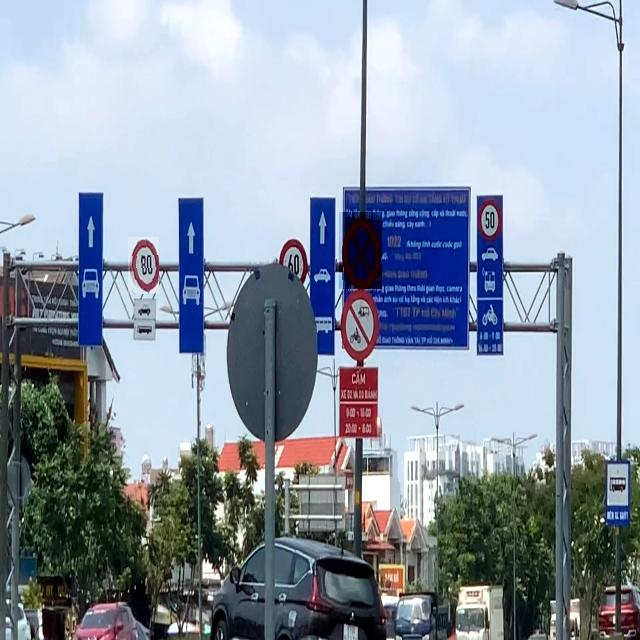bien_chi_dan: (339, 212, 382, 289), (128, 237, 159, 294)
